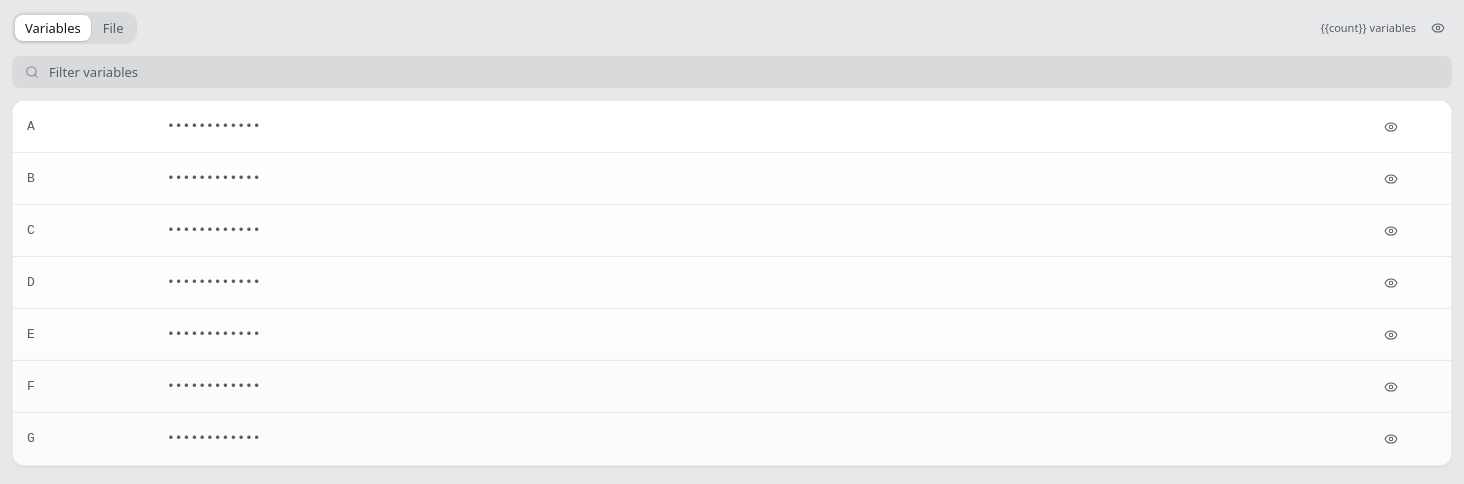
Env fields, filtering › does not expose a masked caption through filtering
The image size is (1464, 484).
Type "private" into the search field with test id "env-filter" at (747, 72), box left=49, top=63, right=1445, bottom=81
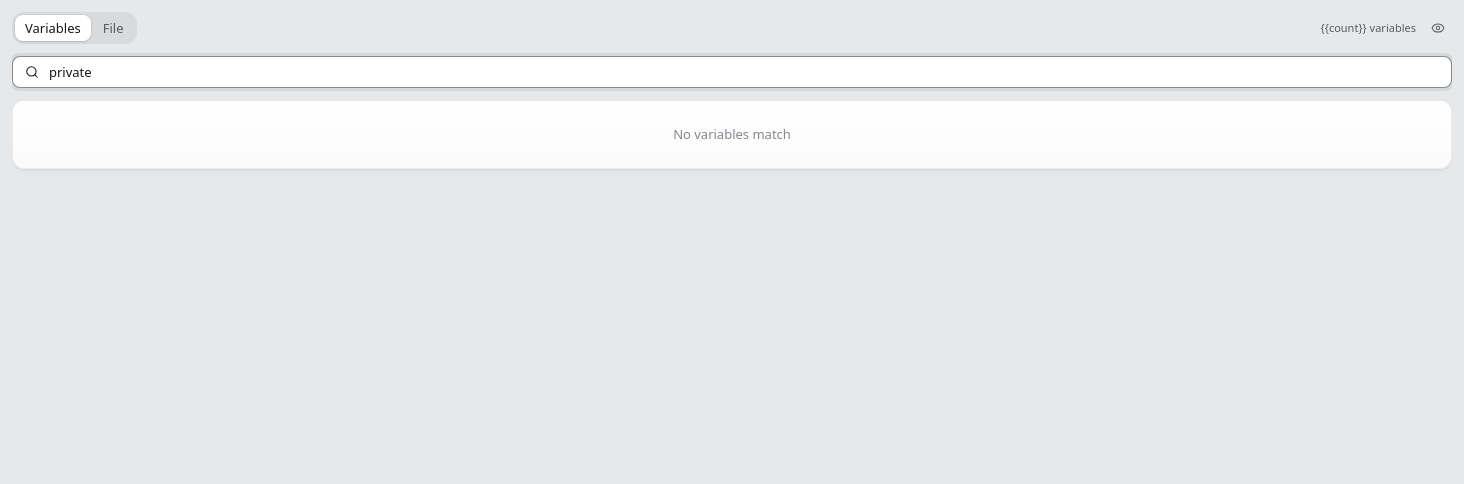
Expected: the text "No variables match" is shown, left=673, top=125, right=791, bottom=143
